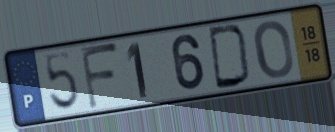1: (125, 40, 150, 100)
5: (41, 48, 82, 113)
6: (170, 33, 207, 94)
D: (206, 23, 253, 92)
F: (78, 41, 122, 112)
O: (251, 19, 296, 82)
